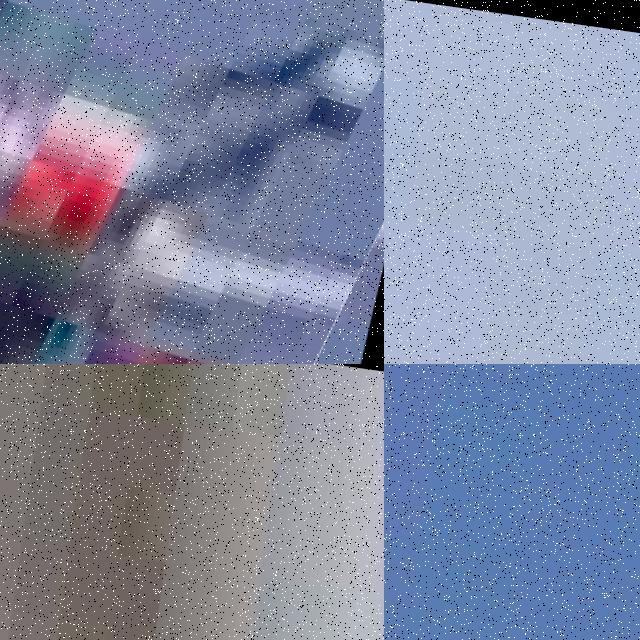drone: (0, 0, 384, 364)
